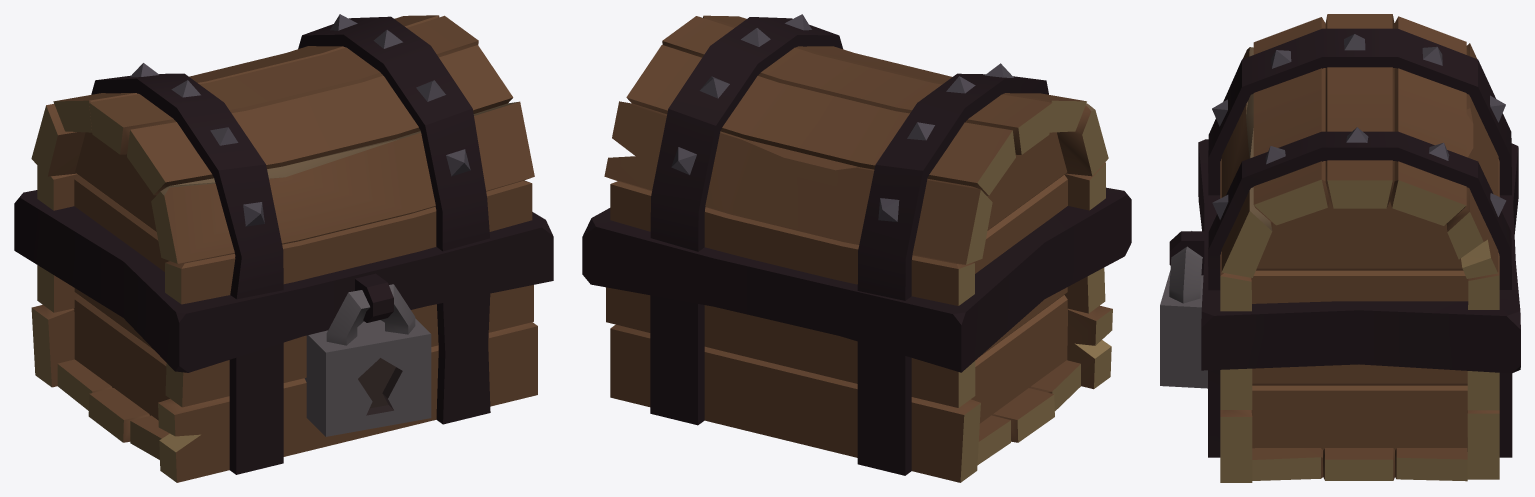
3 renders of one model, left to right at view 1: azimuth 30°, elevation 25°; view 2: azimuth 150°, elevation 25°; view 3: azimuth 270°, elevation 25°, orthographic. The views are drawn at different scales.
Visible parts, largest first — view 1: mff_prop_chest; view 2: mff_prop_chest; view 3: mff_prop_chest.
Part boxes in pixels (bbox=[...]): mff_prop_chest: bbox=[14, 14, 553, 482]; mff_prop_chest: bbox=[582, 14, 1131, 482]; mff_prop_chest: bbox=[1160, 14, 1520, 482].
Bounding box in the file's own units: 1.35 × 1.13 × 1.16.
Materials: 1 (1 with a texture image).
